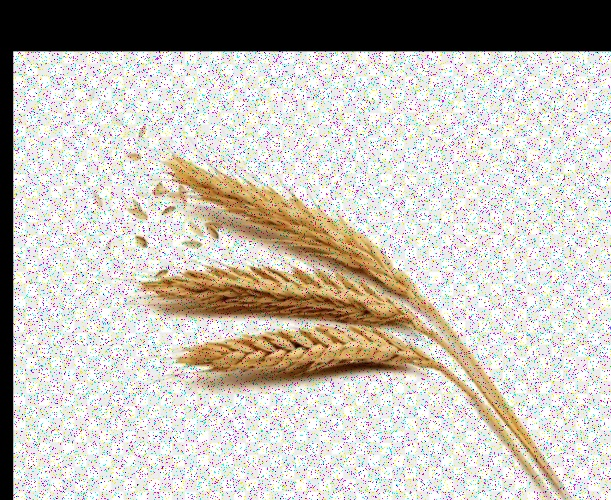wheat: (156, 153, 421, 299), (113, 255, 430, 329), (151, 323, 438, 370)
